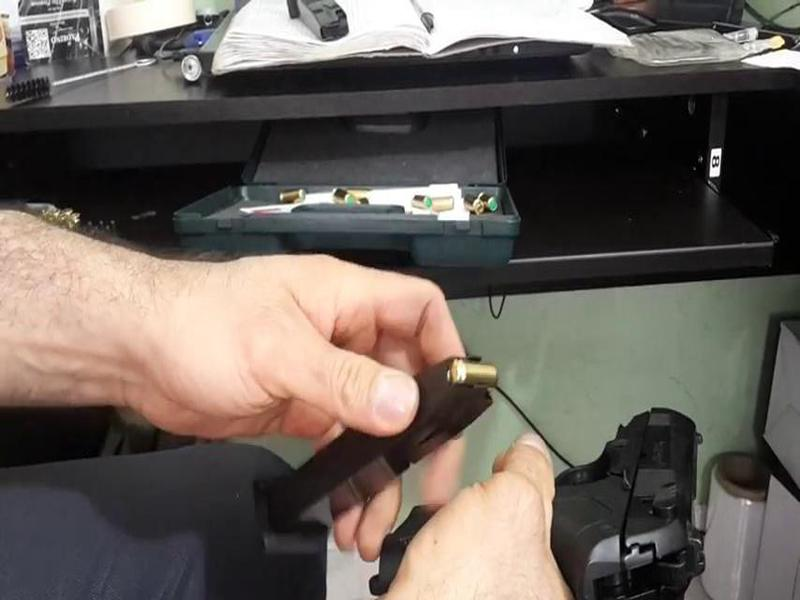Pistola: (359, 367, 719, 600)
